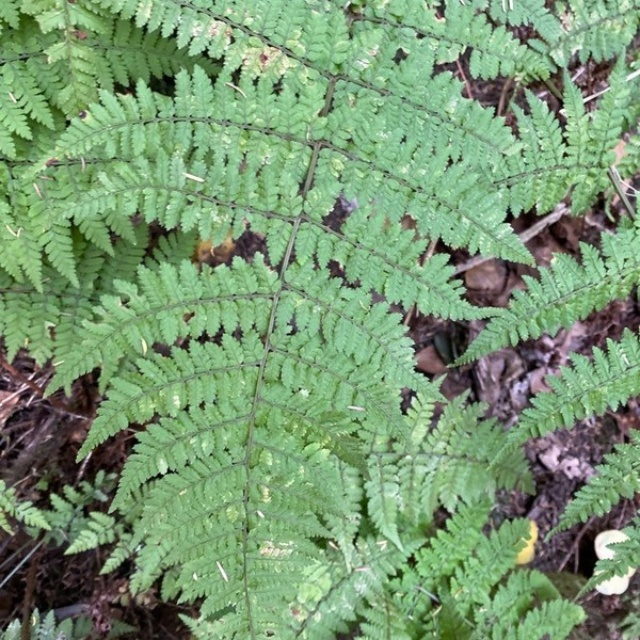obstacle: (71, 19, 457, 582)
